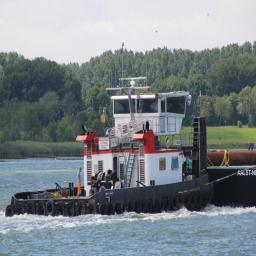tugboat: (3, 77, 215, 227)
